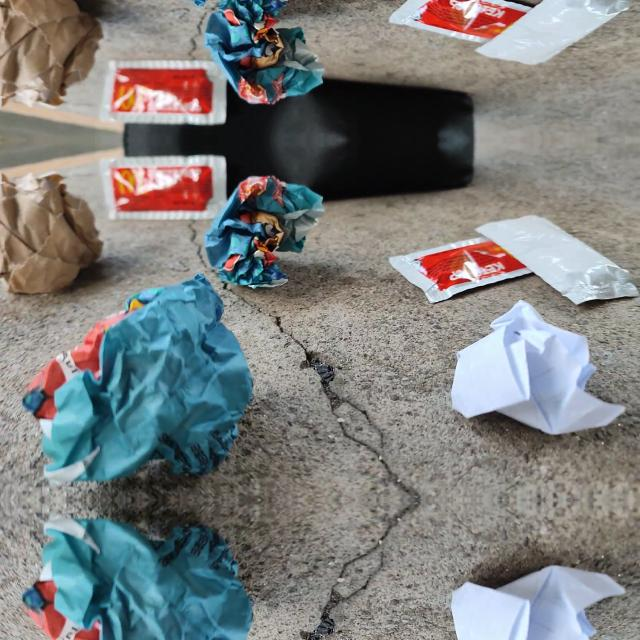paper: (25, 268, 264, 484), (24, 515, 263, 640), (426, 307, 634, 447), (426, 553, 633, 640), (207, 165, 329, 299), (2, 159, 106, 299), (207, 0, 329, 115), (1, 0, 106, 121), (24, 0, 263, 12)
